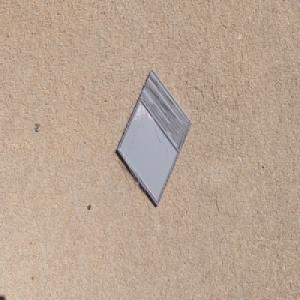PlasticPart: (115, 68, 193, 209)
